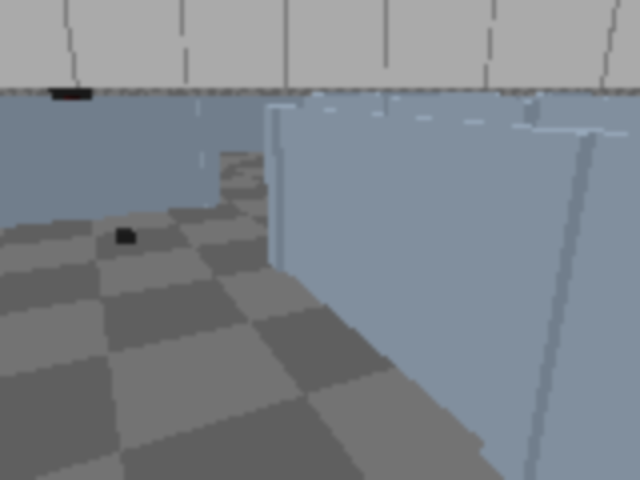puck: (114, 228, 136, 245)
